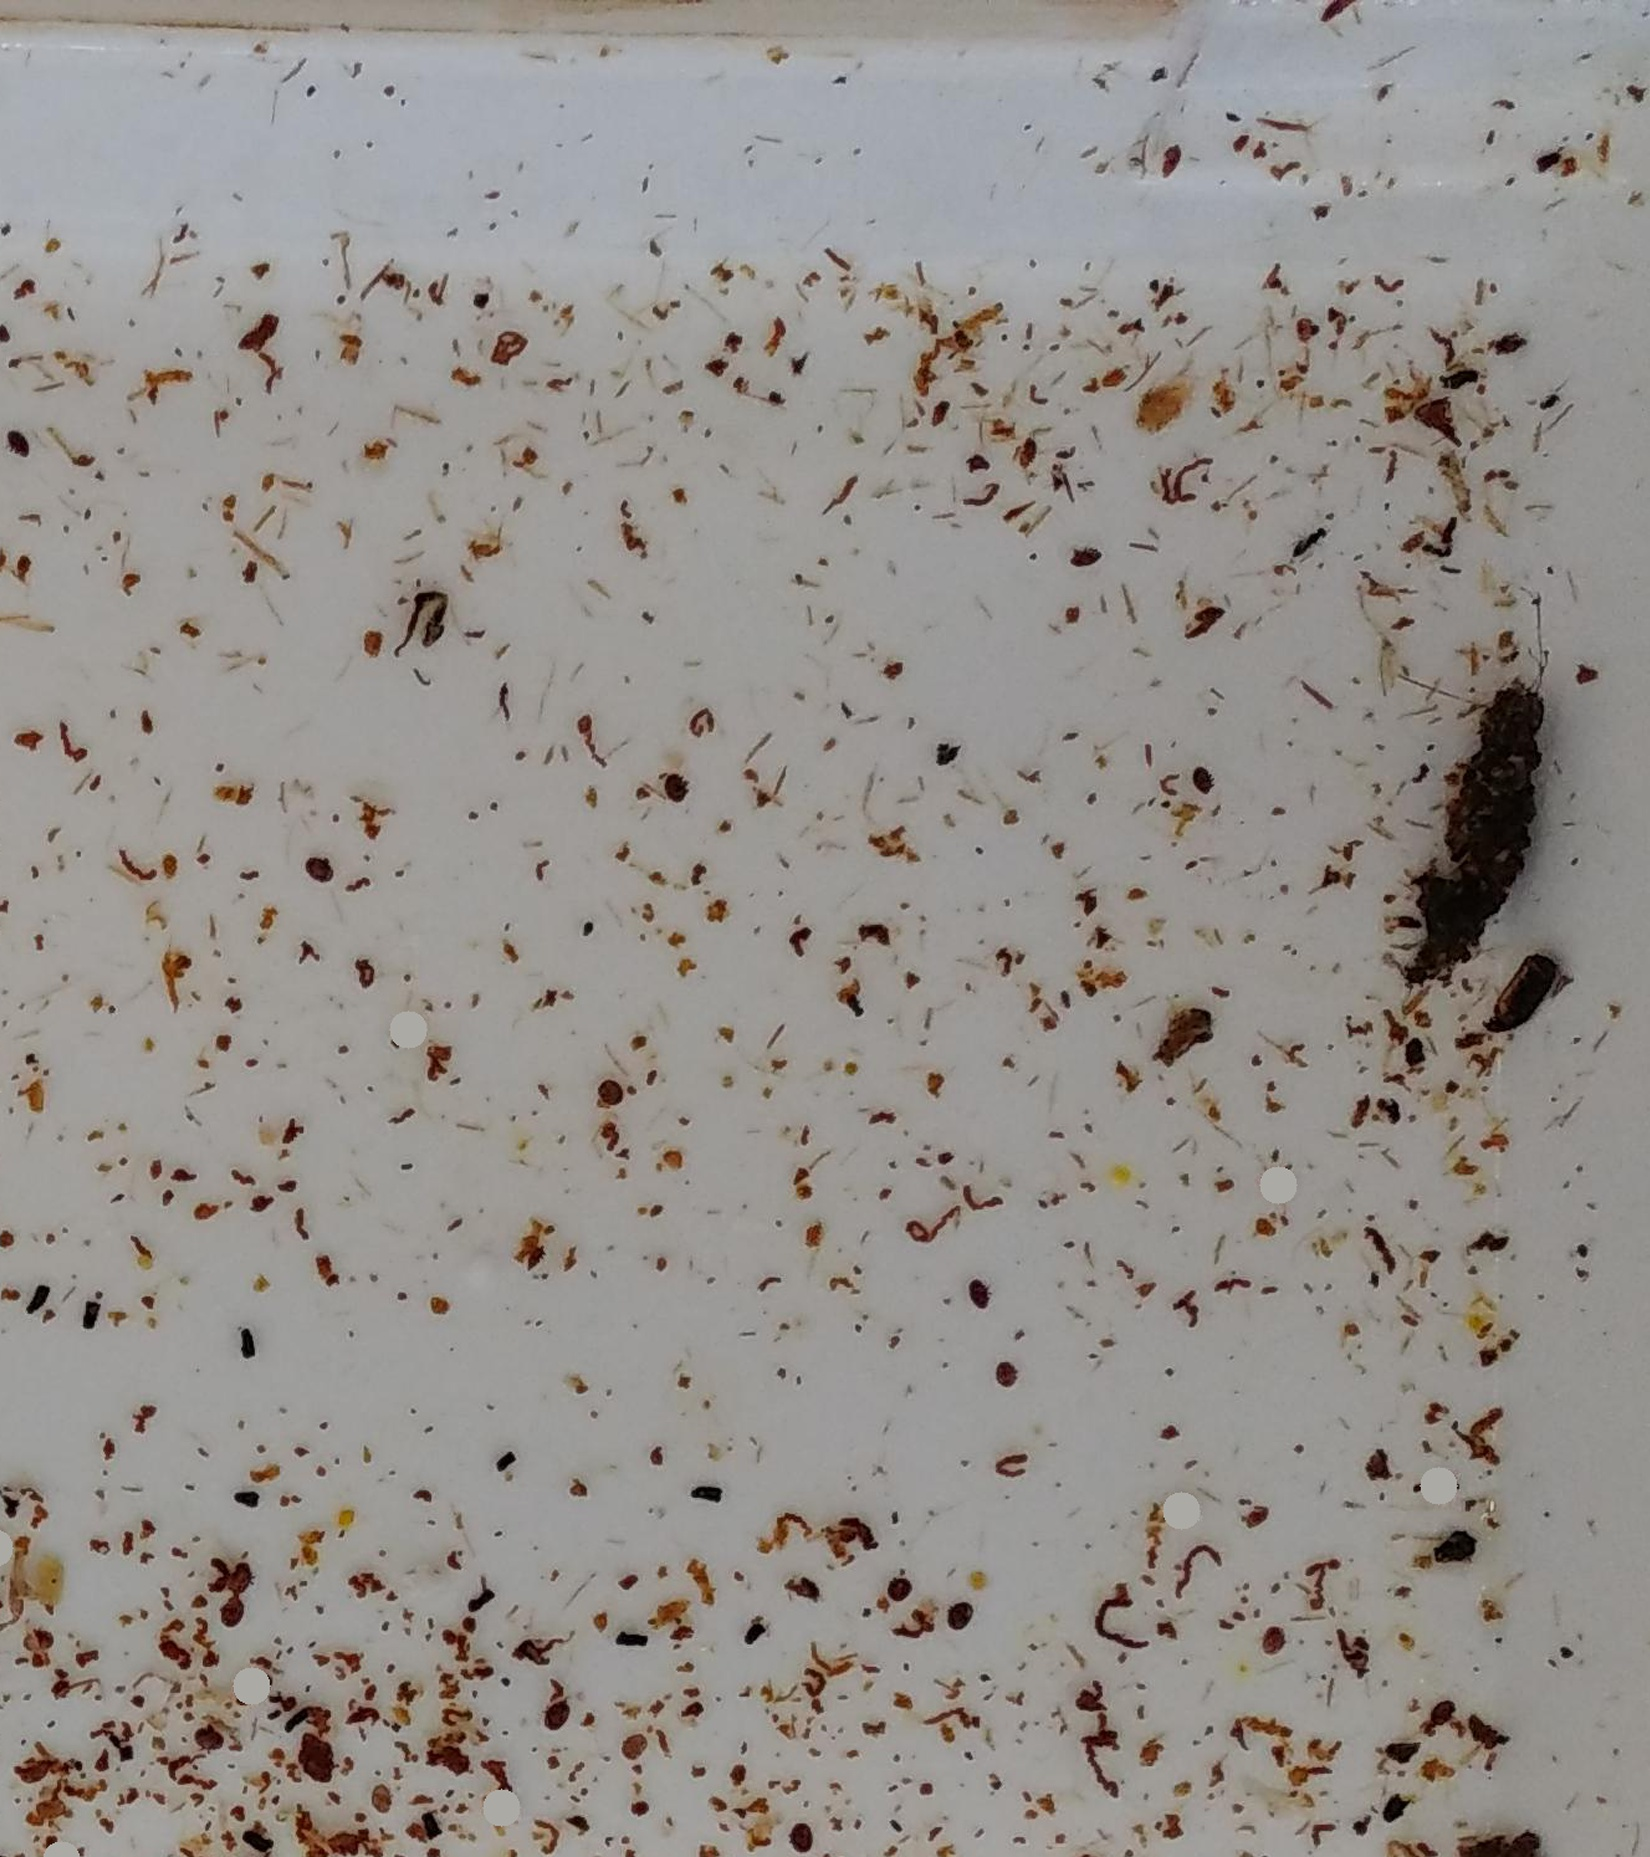Varroa: (221, 1564, 256, 1597), (217, 1591, 248, 1624), (13, 1755, 45, 1787), (190, 1723, 220, 1755), (24, 1628, 56, 1658), (653, 774, 683, 804), (1187, 761, 1217, 790), (542, 1695, 572, 1723), (357, 1789, 385, 1819), (1255, 1626, 1284, 1655), (986, 1355, 1013, 1386), (303, 850, 330, 881), (1070, 538, 1101, 565), (589, 1080, 618, 1107), (956, 1276, 983, 1304), (1427, 1696, 1456, 1723), (788, 1824, 815, 1851), (623, 1733, 648, 1761), (948, 1601, 972, 1626), (889, 1577, 913, 1602)
